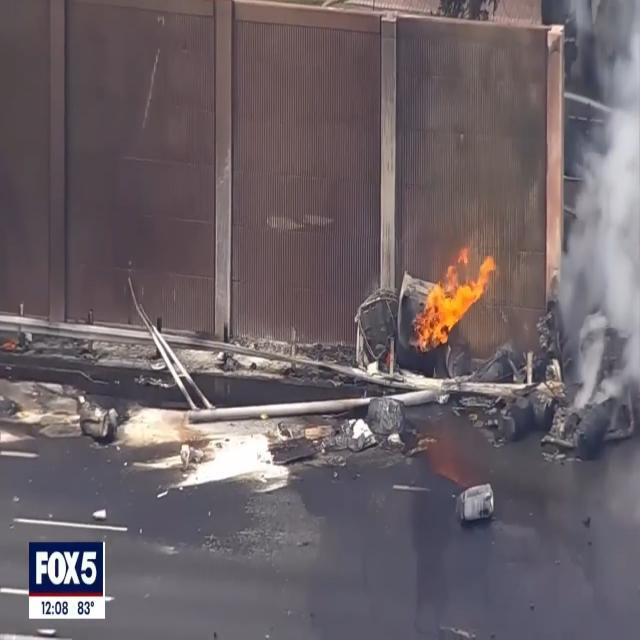fire: (413, 250, 497, 358)
